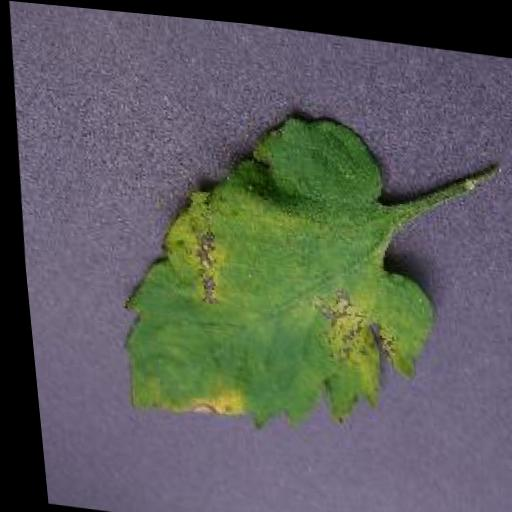Septoria: (100, 83, 446, 450)
